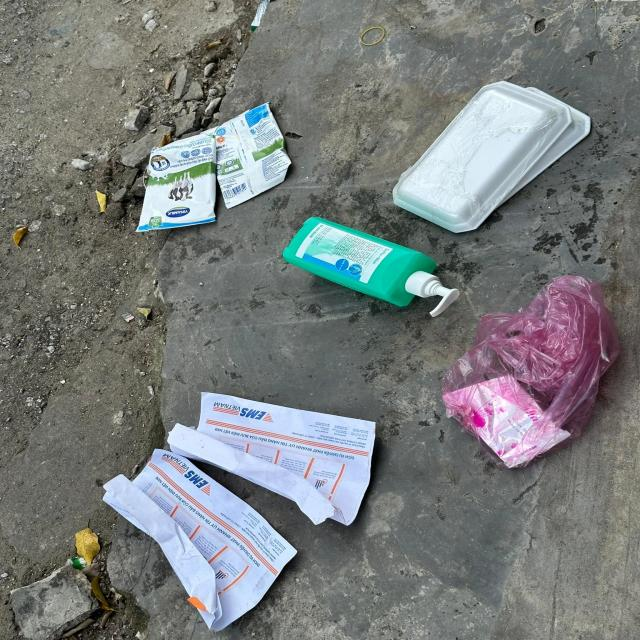bottle: (283, 216, 461, 318)
foam box: (393, 80, 574, 232)
packet: (200, 100, 293, 208), (135, 132, 216, 233)
paper: (102, 448, 298, 632), (168, 392, 377, 526)
trash bag: (442, 275, 623, 469)
